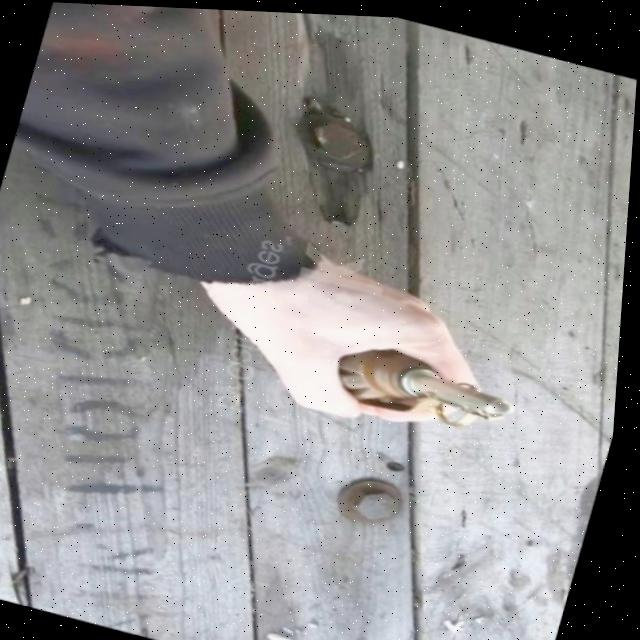grenade: (334, 333, 546, 440)
